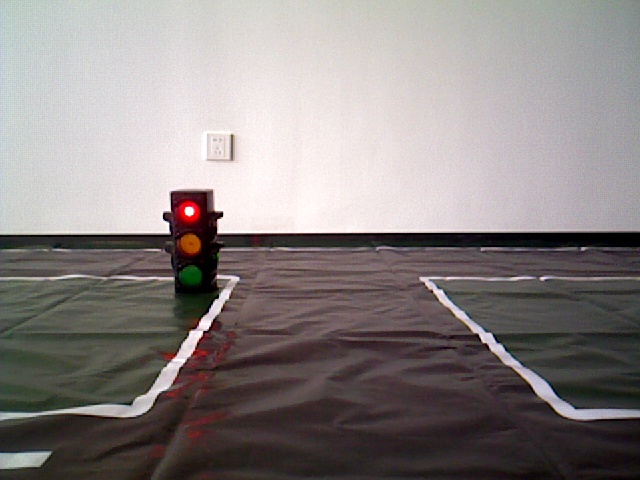red: (172, 193, 212, 290)
